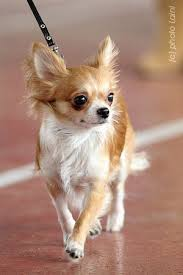chihuahua: (10, 29, 150, 260)
